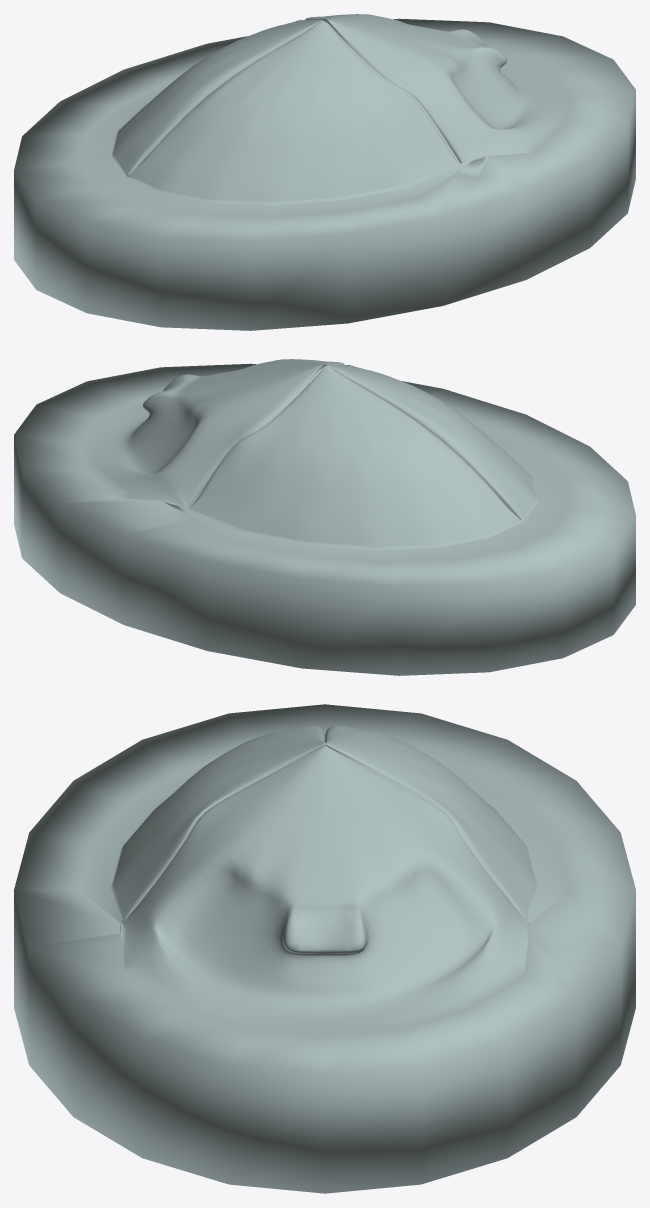
File: Silver Heart Scarab.fbx
3 views of the same model, one above another, from view 1: azimuth 30°, elevation 25°; view 2: azimuth 150°, elevation 25°; view 3: azimuth 270°, elevation 25° (orthographic). The views are drawn at different scales.
Parts seen in each view (by area): view 1: pCylinder1; view 2: pCylinder1; view 3: pCylinder1.
Boxes of the visible parts, x1,y1,x2,y2 form: pCylinder1: [14, 14, 635, 330]; pCylinder1: [14, 359, 635, 675]; pCylinder1: [14, 704, 635, 1193].
Size of the model in its own units: 6.61 by 2.19 by 4.68.
1 material, 1 textured.
